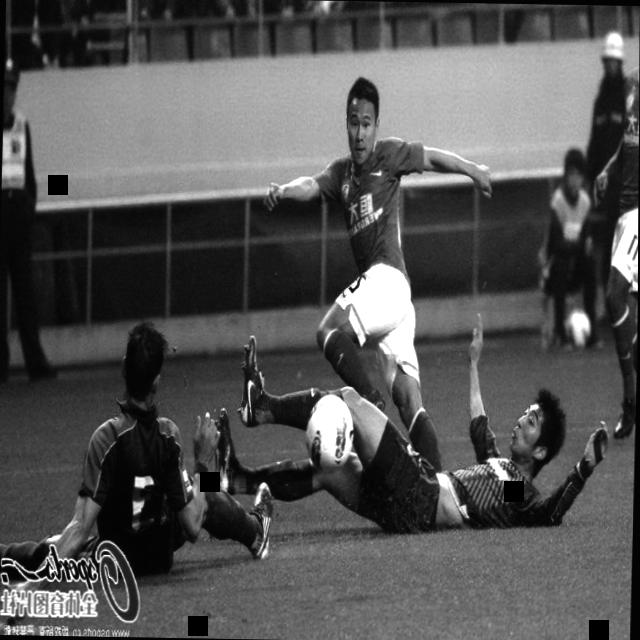Fall-Detected: (195, 310, 627, 540)
